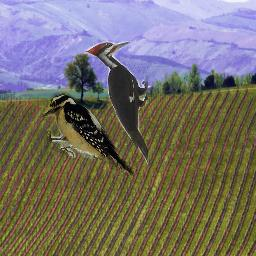Woodpecker: (41, 90, 134, 176), (84, 41, 148, 165)
